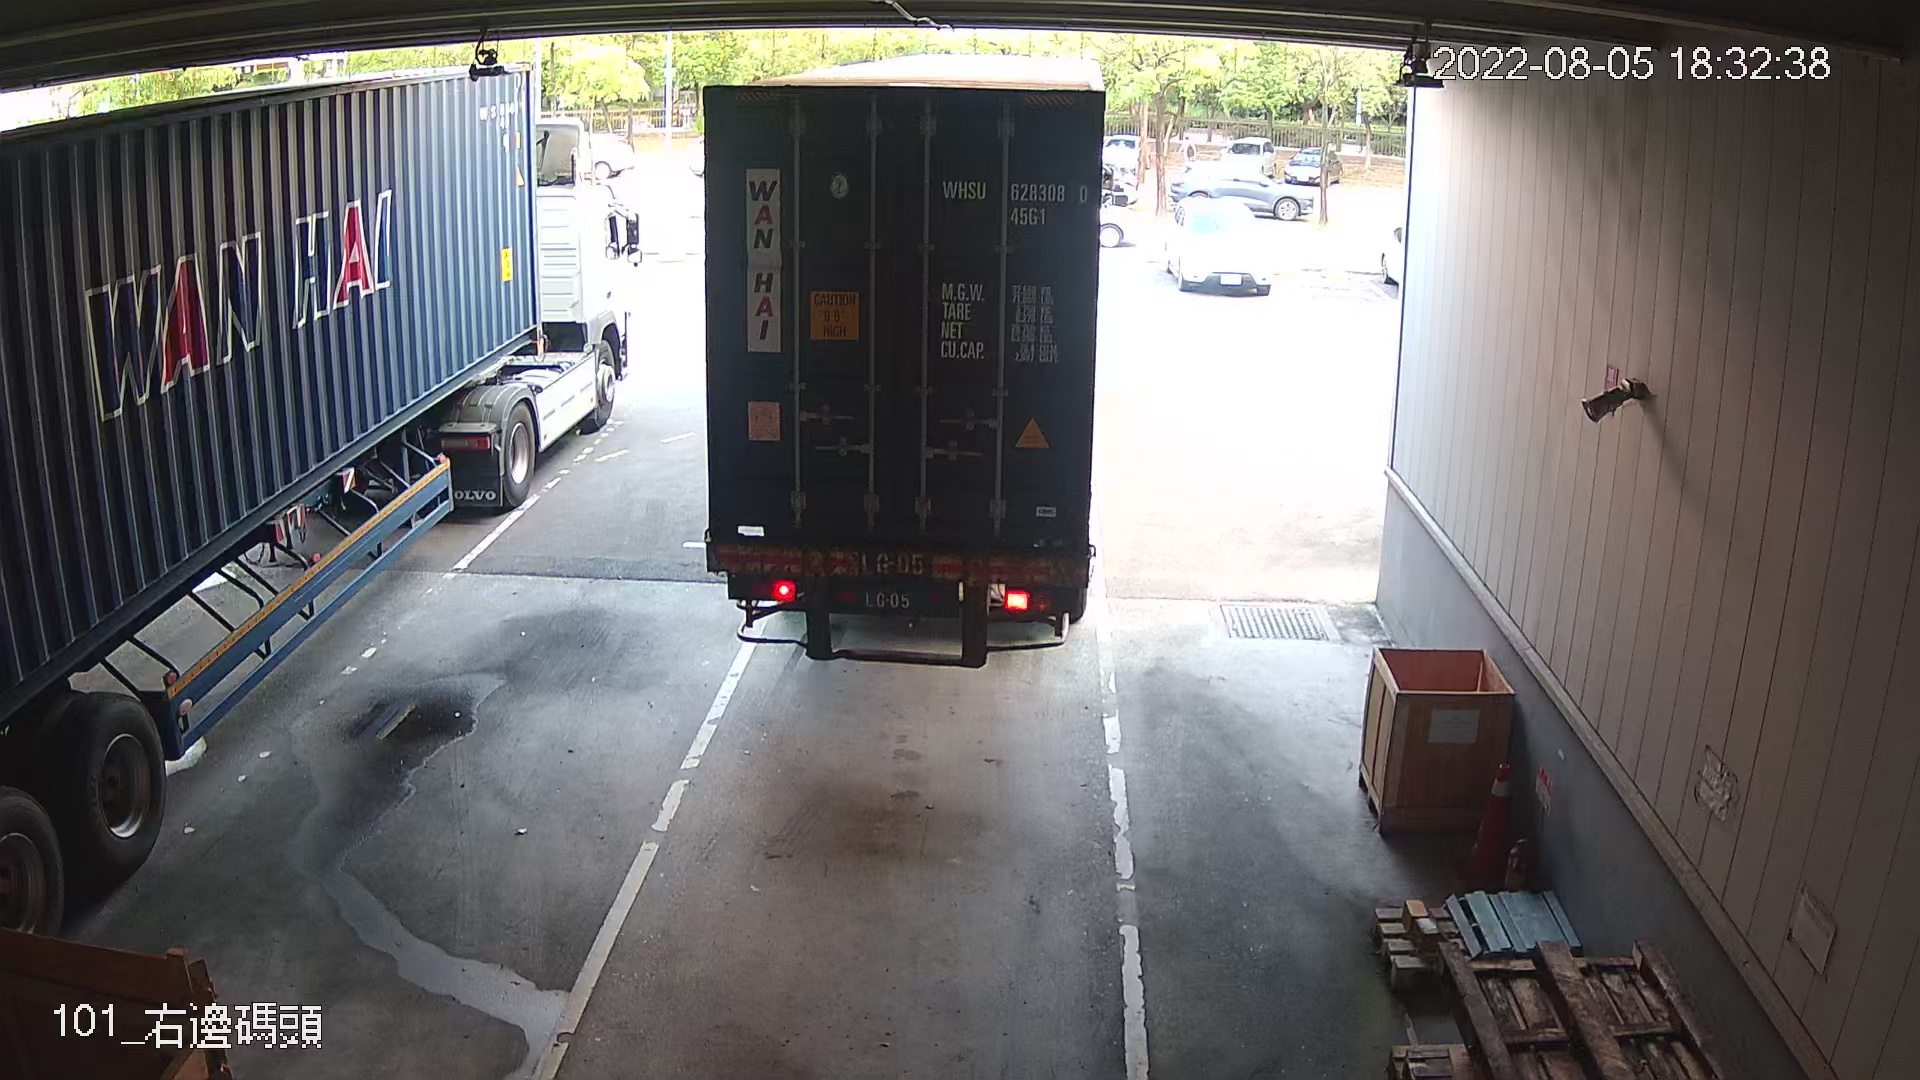container: (935, 169, 1092, 236)
